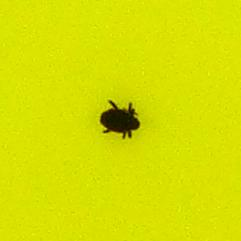Coleoptera: (100, 100, 141, 141)
